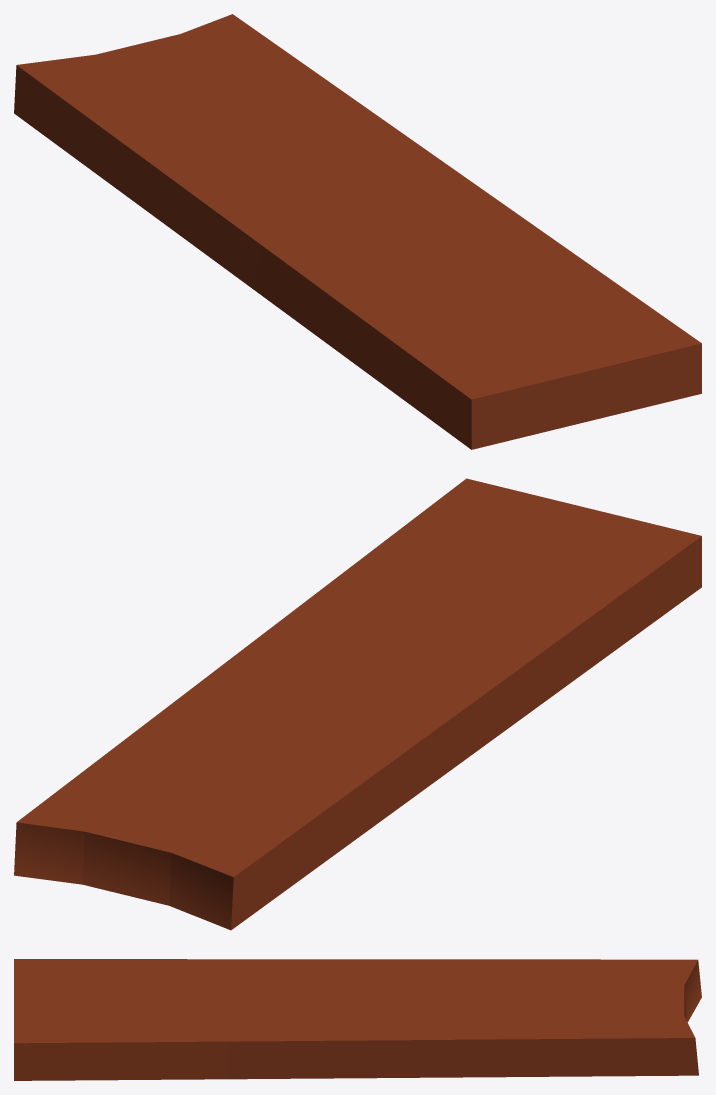
File: BrokenBoard4.fbx
The picture shows the model from 3 angles, top to bottom: view 1: azimuth 30°, elevation 25°; view 2: azimuth 150°, elevation 25°; view 3: azimuth 270°, elevation 25°; orthographic projection. The views are drawn at different scales.
Visible parts, largest first — view 1: BrokenBoard.004; view 2: BrokenBoard.004; view 3: BrokenBoard.004.
Boxes of the visible parts, x1,y1,x2,y2 form: BrokenBoard.004: [14, 14, 701, 449]; BrokenBoard.004: [14, 478, 701, 930]; BrokenBoard.004: [14, 959, 701, 1080].
Bounding box in the file's own units: 185 × 38.61 × 639.
